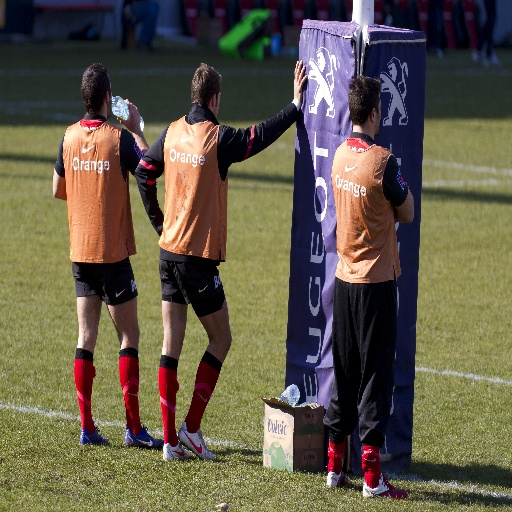hand: (292, 56, 311, 101), (116, 99, 139, 131), (404, 181, 409, 189)
